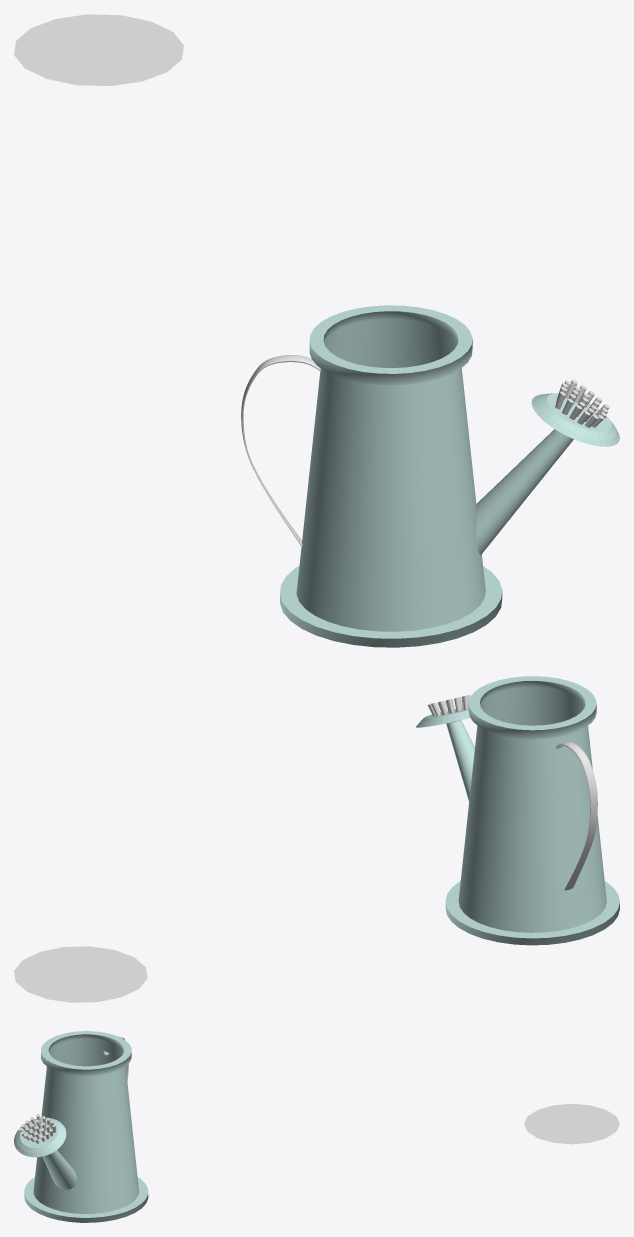
Rendered from regadorzinho.fbx.
3 renders of one model, top to bottom at view 1: azimuth 30°, elevation 25°; view 2: azimuth 150°, elevation 25°; view 3: azimuth 270°, elevation 25°, orthographic. The views are drawn at different scales.
Visible parts, largest first — view 1: Cylinder.001, Circle, Cylinder.002, buracos.001, Cube; view 2: Cylinder.001, Circle, Cylinder.002, Cube, buracos.001; view 3: Cylinder.001, Circle, Cylinder.002, buracos.001.
Part boxes in pixels (<box>): Cylinder.001: <box>280,305,502,647</box>; Circle: <box>14,14,183,85</box>; Cylinder.002: <box>476,393,619,554</box>; buracos.001: <box>555,379,609,427</box>; Cube: <box>241,355,320,546</box>; Cylinder.001: <box>445,676,619,945</box>; Circle: <box>14,946,147,1002</box>; Cylinder.002: <box>416,707,474,801</box>; Cube: <box>555,742,597,890</box>; buracos.001: <box>427,694,470,716</box>; Cylinder.001: <box>24,1031,148,1222</box>; Circle: <box>524,1103,619,1144</box>; Cylinder.002: <box>14,1117,76,1189</box>; buracos.001: <box>18,1114,55,1143</box>.
Size of the model in its own units: 575 by 433 by 1625.
